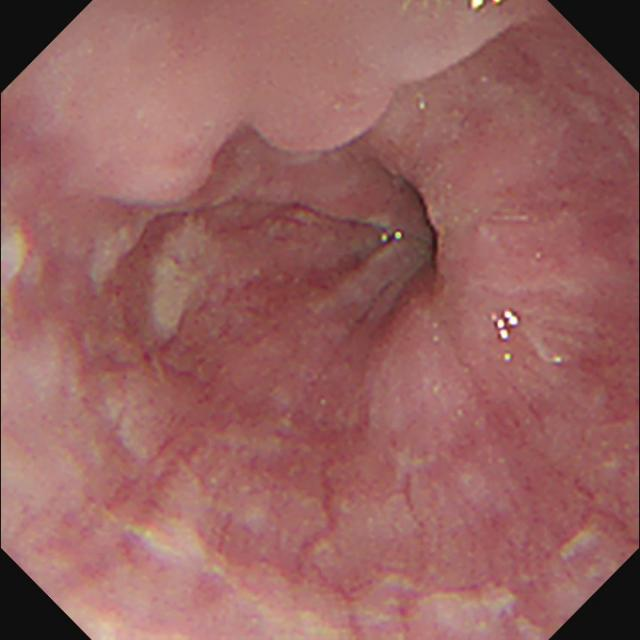A: (142, 334, 382, 455), (252, 88, 398, 160), (120, 132, 224, 214)
J: (146, 214, 228, 337), (86, 216, 150, 286)
U: (492, 310, 521, 340)
